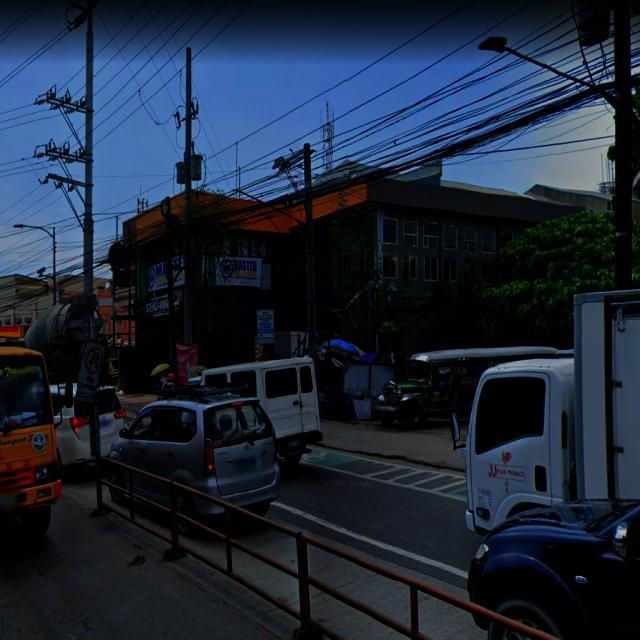no u turn: (77, 340, 109, 406)
